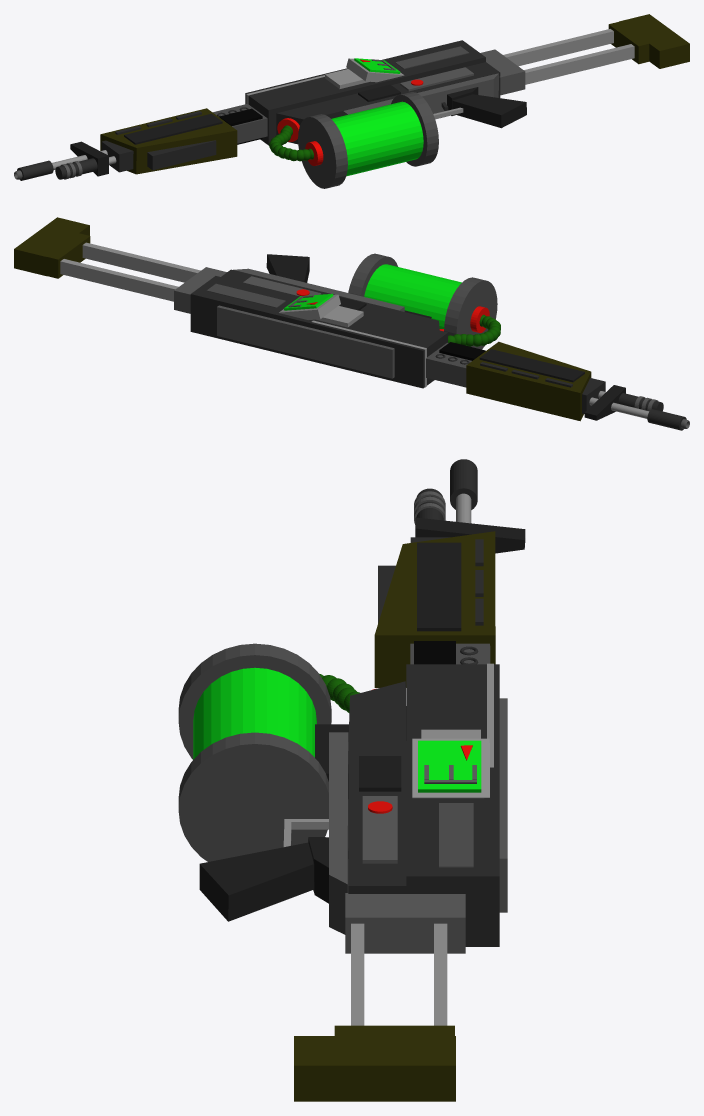
Rendered from lmg01.fbx.
3 views of the same model, one above another, from view 1: azimuth 30°, elevation 25°; view 2: azimuth 150°, elevation 25°; view 3: azimuth 270°, elevation 25° (orthographic). The views are drawn at different scales.
Parts seen in each view (by area): view 1: Cube.028, Cylinder.006, Cube.012, Cylinder.005, Cube.011, Cube.001, Cube.005, Cube.010, Cube.003, Cylinder.004, Cube.017, Cube.035 (+19 smaller); view 2: Cube.028, Cube.027, Cube.012, Cylinder.006, Cube.011, Cylinder.005, Cube.010, Cube.005, Cube.035, Cube.013, Cube.001, Cube.007 (+17 smaller); view 3: Cube.028, Cylinder.004, Cube.011, Cube.012, Cylinder.006, Cube.015, Cube.001, Cylinder.005, Cube.009, Cube.035, Cube.003, Cube.002 (+13 smaller).
Boxes of the visible parts, <box> form: Cube.028: <box>245,40,485,145</box>; Cylinder.006: <box>331,101,423,176</box>; Cube.012: <box>100,108,237,174</box>; Cylinder.005: <box>298,114,347,188</box>; Cube.011: <box>619,14,689,68</box>; Cube.001: <box>452,94,526,128</box>; Cube.005: <box>524,44,634,84</box>; Cube.010: <box>503,29,613,66</box>; Cube.003: <box>343,73,498,118</box>; Cylinder.004: <box>391,92,438,166</box>; Cube.017: <box>147,140,216,170</box>; Cube.035: <box>124,113,222,144</box>; Cube.028: <box>190,276,447,388</box>; Cube.027: <box>217,305,394,378</box>; Cube.012: <box>466,341,591,421</box>; Cylinder.006: <box>364,264,461,329</box>; Cube.011: <box>14,217,89,276</box>; Cylinder.005: <box>444,277,497,349</box>; Cube.010: <box>60,259,178,301</box>; Cube.005: <box>82,242,200,282</box>; Cube.035: <box>479,349,584,382</box>; Cube.013: <box>426,343,471,387</box>; Cube.001: <box>266,254,309,282</box>; Cube.007: <box>46,233,90,278</box>; Cube.028: <box>406,664,499,946</box>; Cylinder.004: <box>178,732,328,861</box>; Cube.011: <box>294,1036,455,1101</box>; Cube.012: <box>374,531,495,687</box>; Cylinder.006: <box>193,667,316,759</box>; Cube.015: <box>345,893,465,953</box>; Cube.001: <box>199,842,313,921</box>; Cylinder.005: <box>178,643,331,759</box>; Cube.009: <box>348,744,406,893</box>; Cube.035: <box>417,542,461,631</box>; Cube.003: <box>329,732,348,934</box>; Cube.002: <box>348,681,406,744</box>.
Size of the model in its own units: 3513 by 352 by 835.
